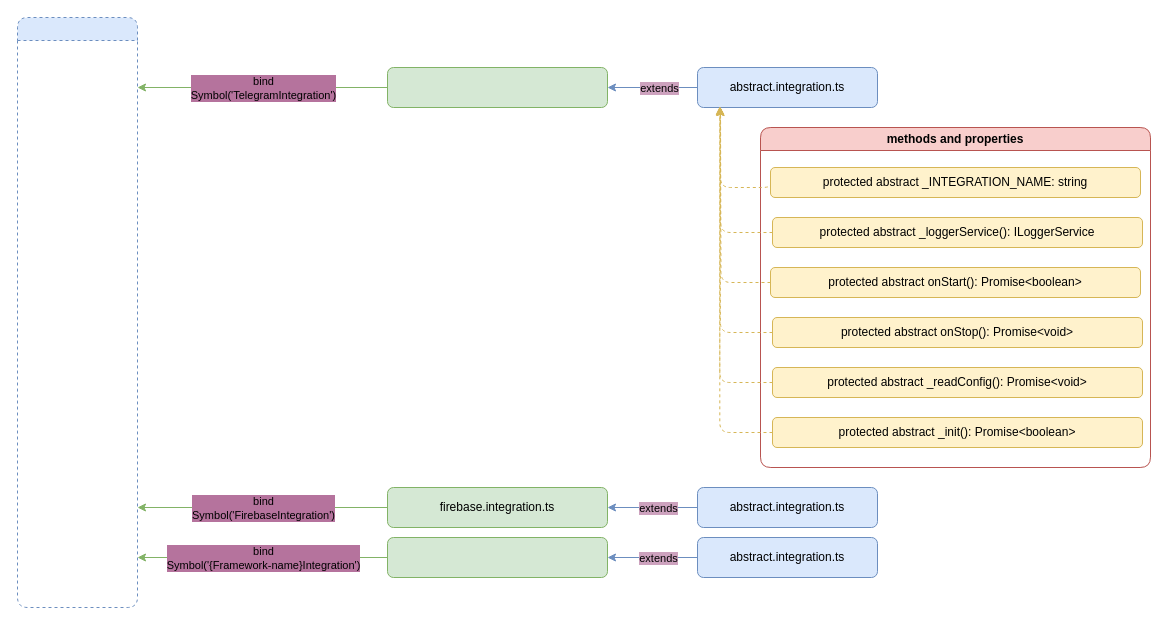
The diagram is 1168 pixels wide and 625 high, and some of its shapes have lost their labels. The centre of each missing label's shape, as x and y in pixels:
"ioc.core.ts" goes at [77,312].
"telegram.integration.ts" goes at [497,87].
"{integration-name}.integration.ts" goes at [497,557].
